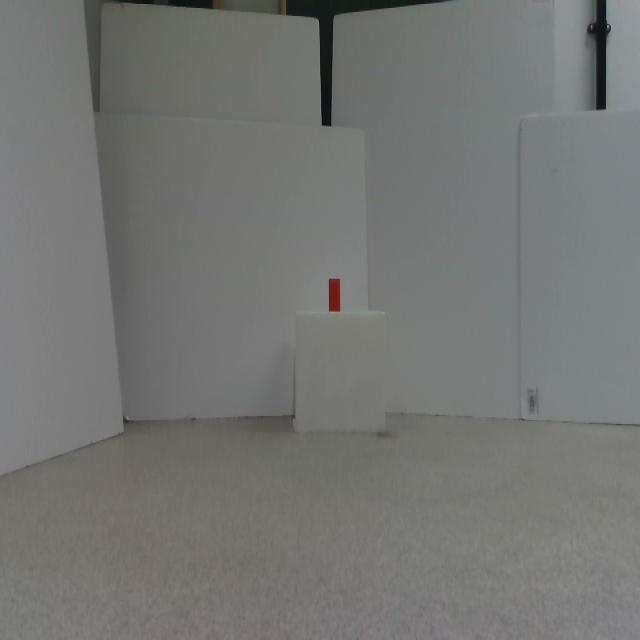red_cylinder: (329, 279, 340, 311)
